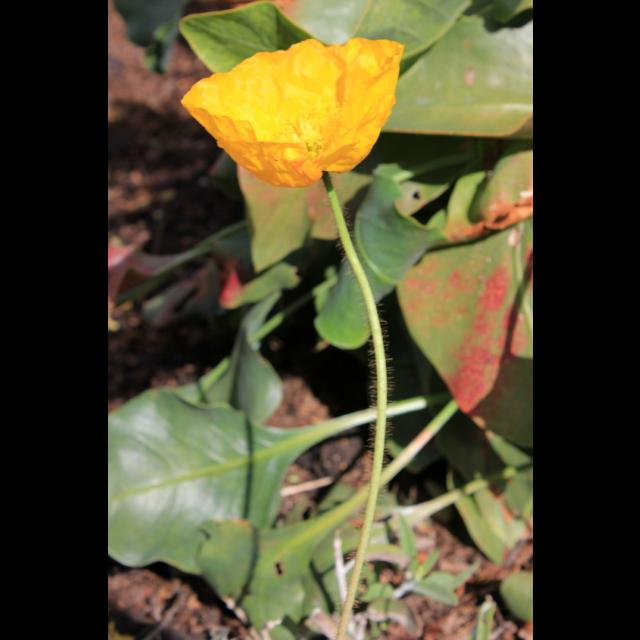Flower: (180, 30, 400, 180)
